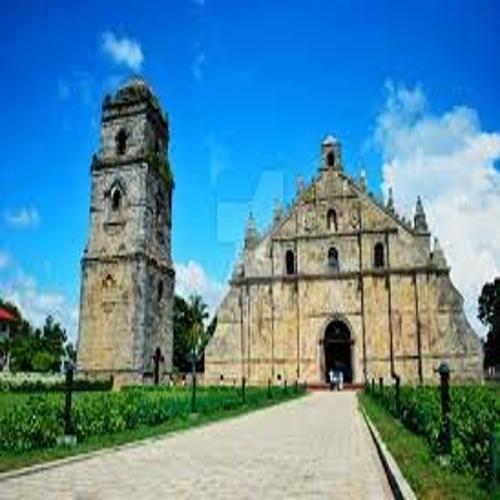Paoay Church: (66, 59, 488, 392)
